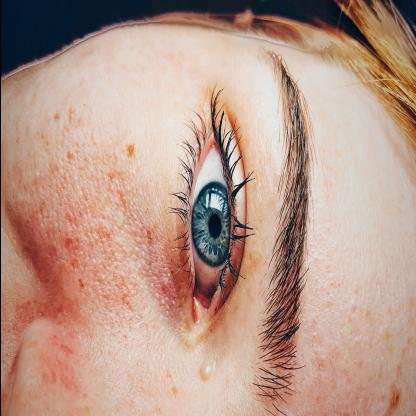Eye: (166, 79, 247, 339)
Nose: (2, 317, 176, 416)
